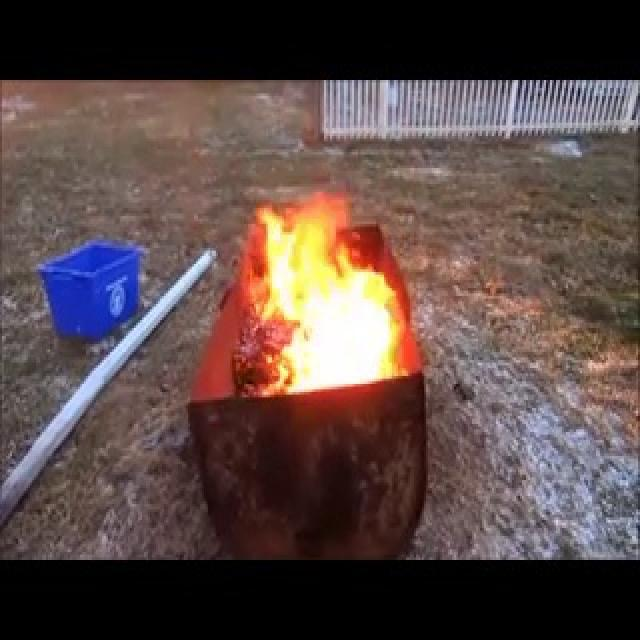Fire: (194, 161, 424, 404)
